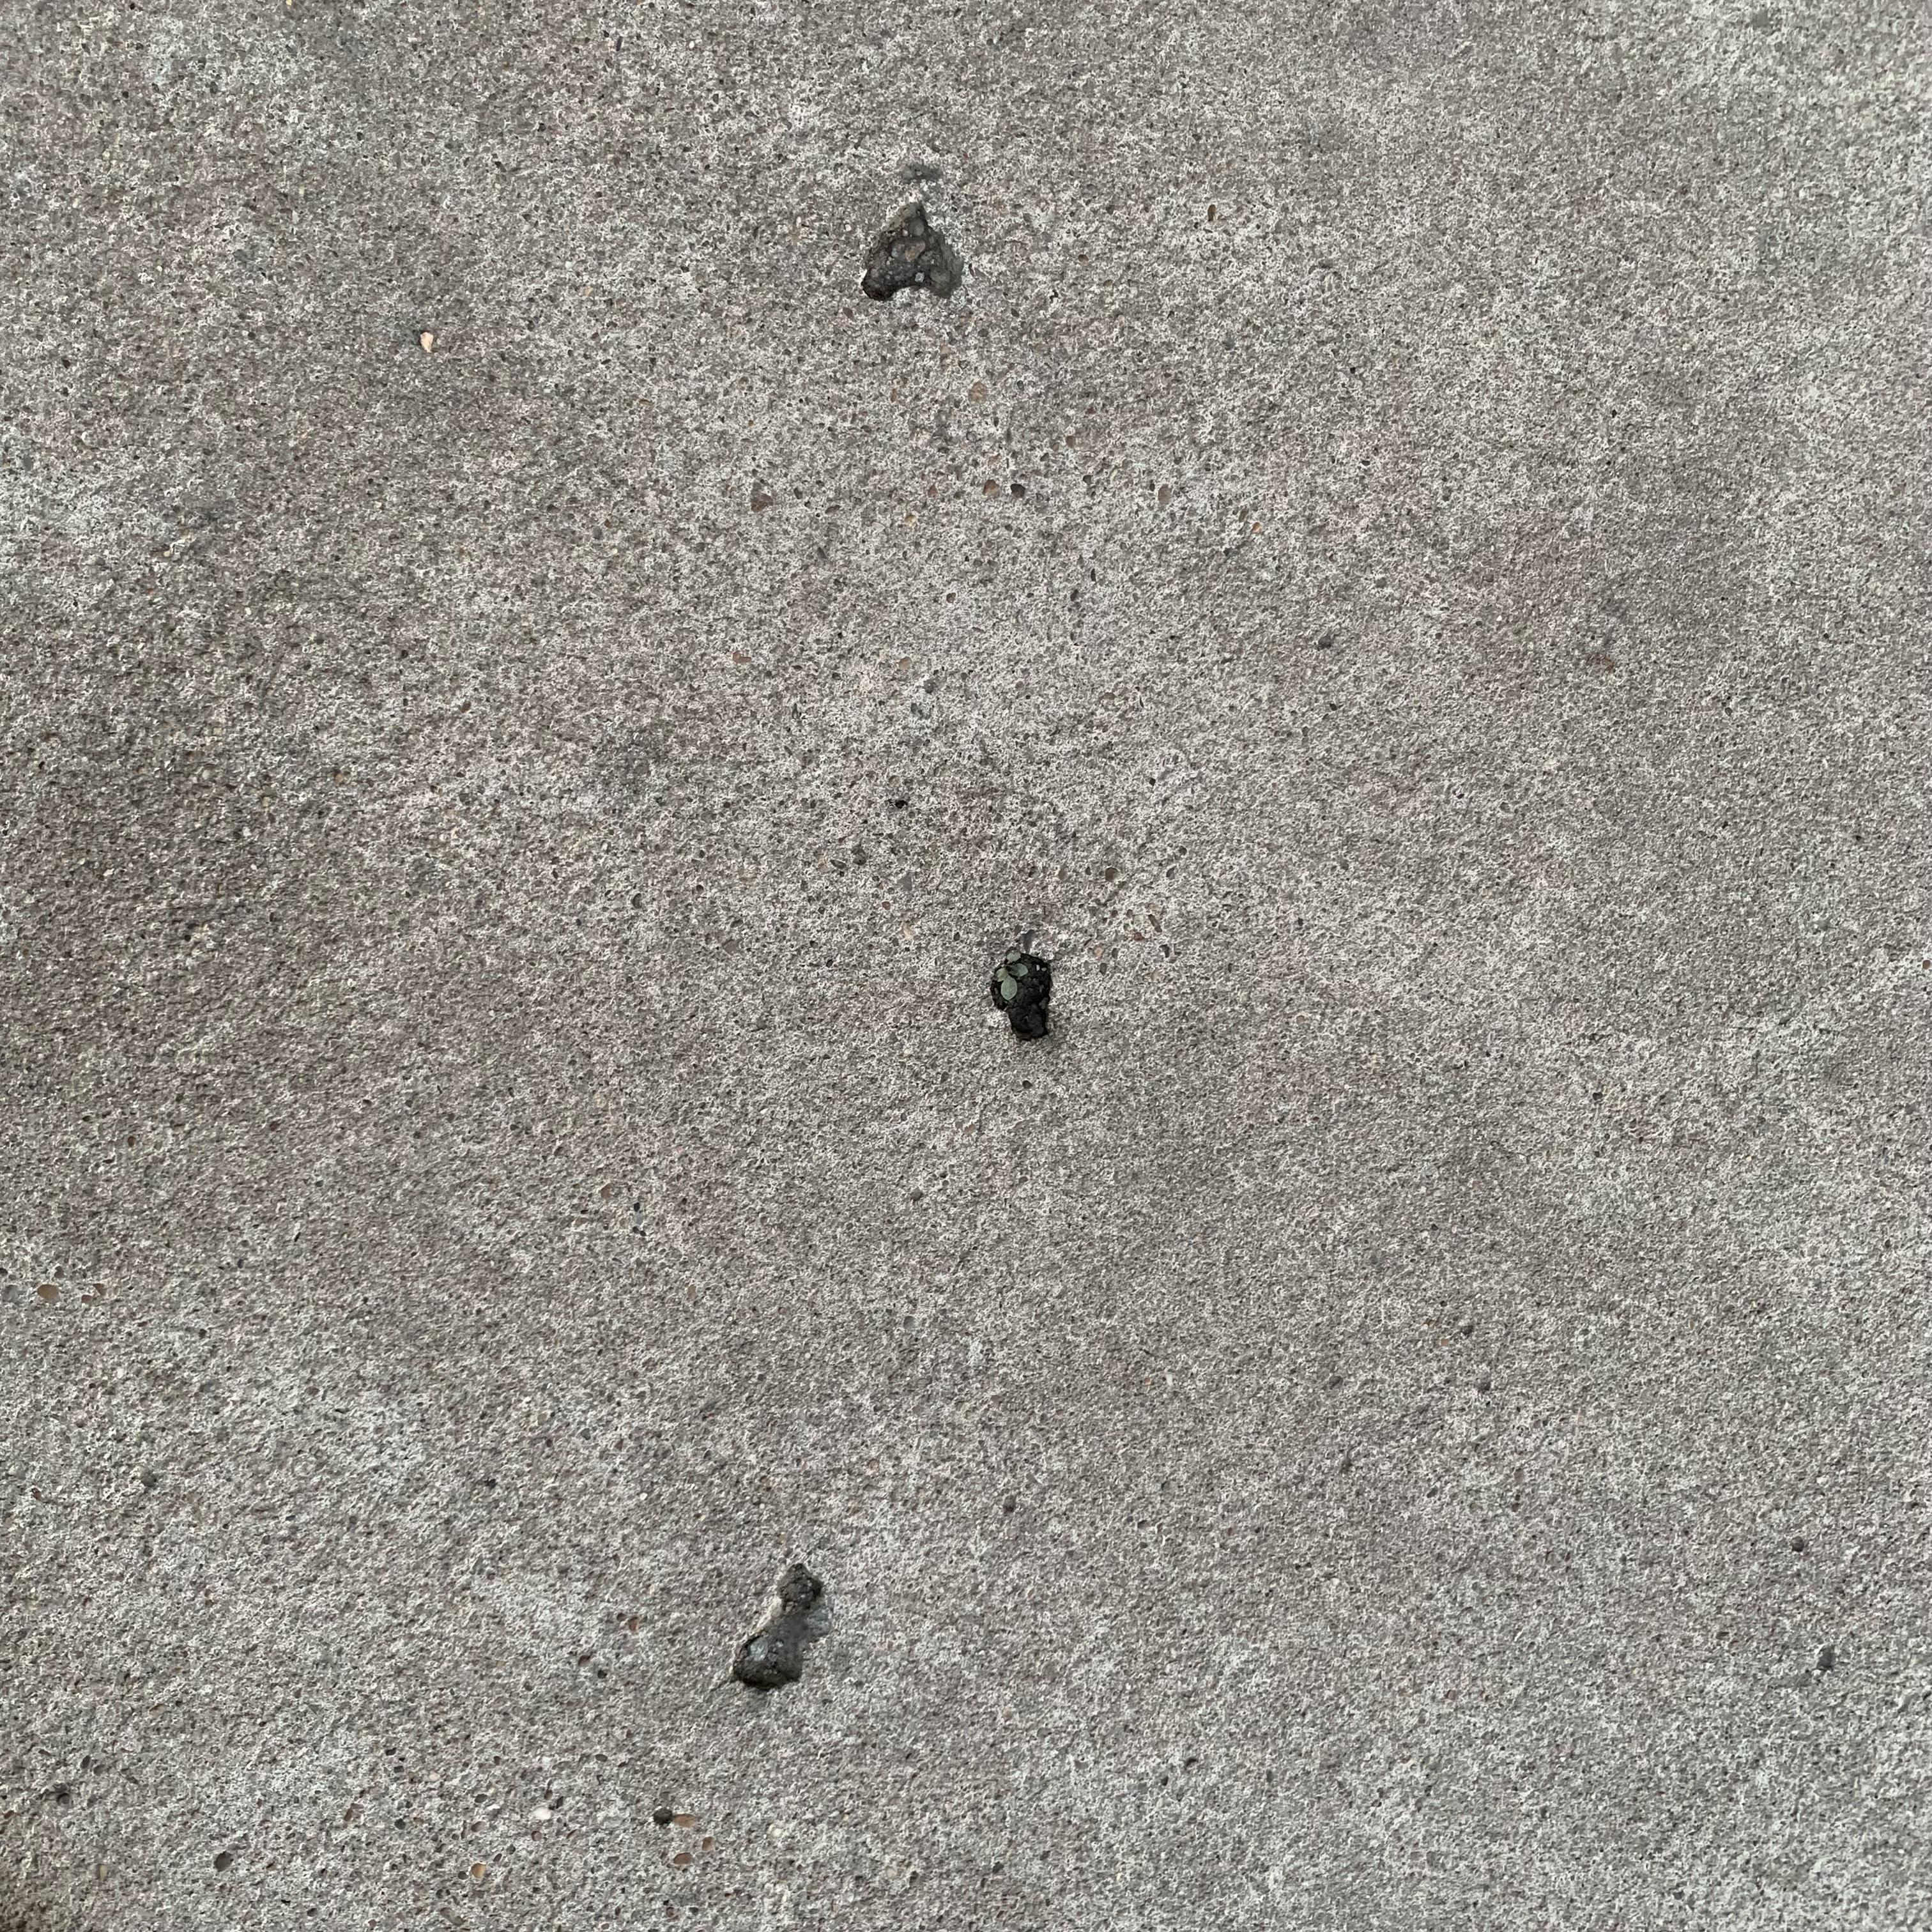grey spot: (729, 1560, 824, 1691), (856, 195, 971, 303), (991, 954, 1053, 1044)
